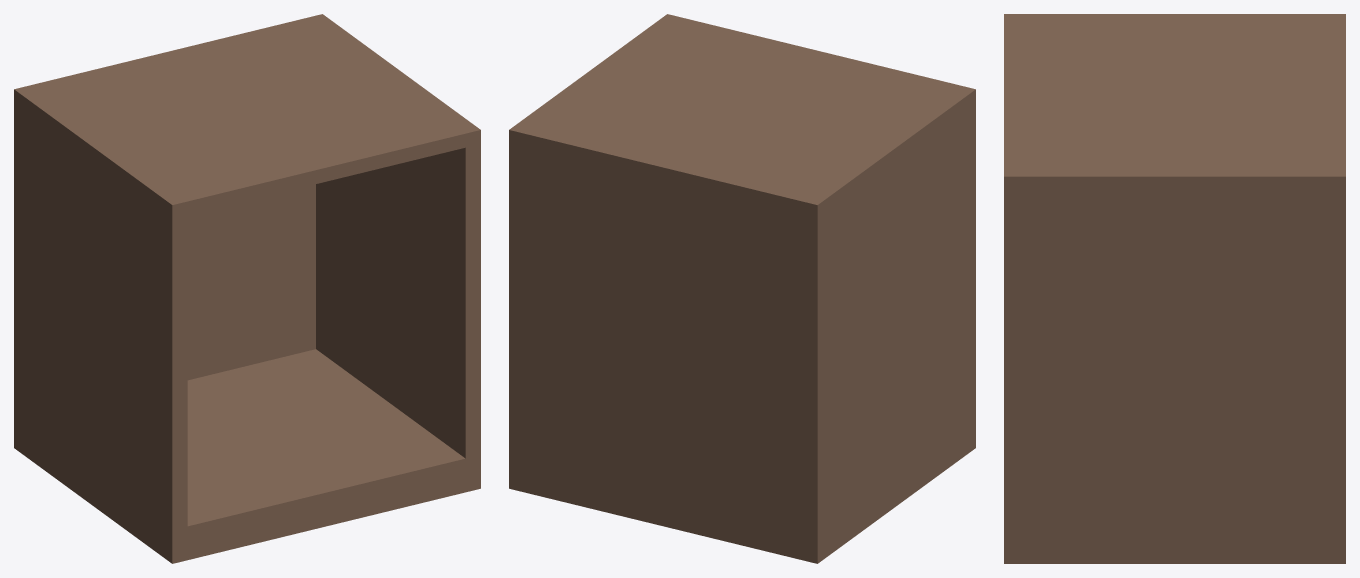
Rendered from BedTable1_C1.fbx.
3 renders of one model, left to right at view 1: azimuth 30°, elevation 25°; view 2: azimuth 150°, elevation 25°; view 3: azimuth 270°, elevation 25°, orthographic. The views are drawn at different scales.
Visible parts, largest first — view 1: BedTable1_C1; view 2: BedTable1_C1; view 3: BedTable1_C1.
Boxes of the visible parts, x1=… form: BedTable1_C1: x1=14, y1=14, x2=480, y2=563; BedTable1_C1: x1=509, y1=14, x2=975, y2=563; BedTable1_C1: x1=1004, y1=14, x2=1345, y2=563.
Bounding box in the file's own units: 45 × 50 × 40.
